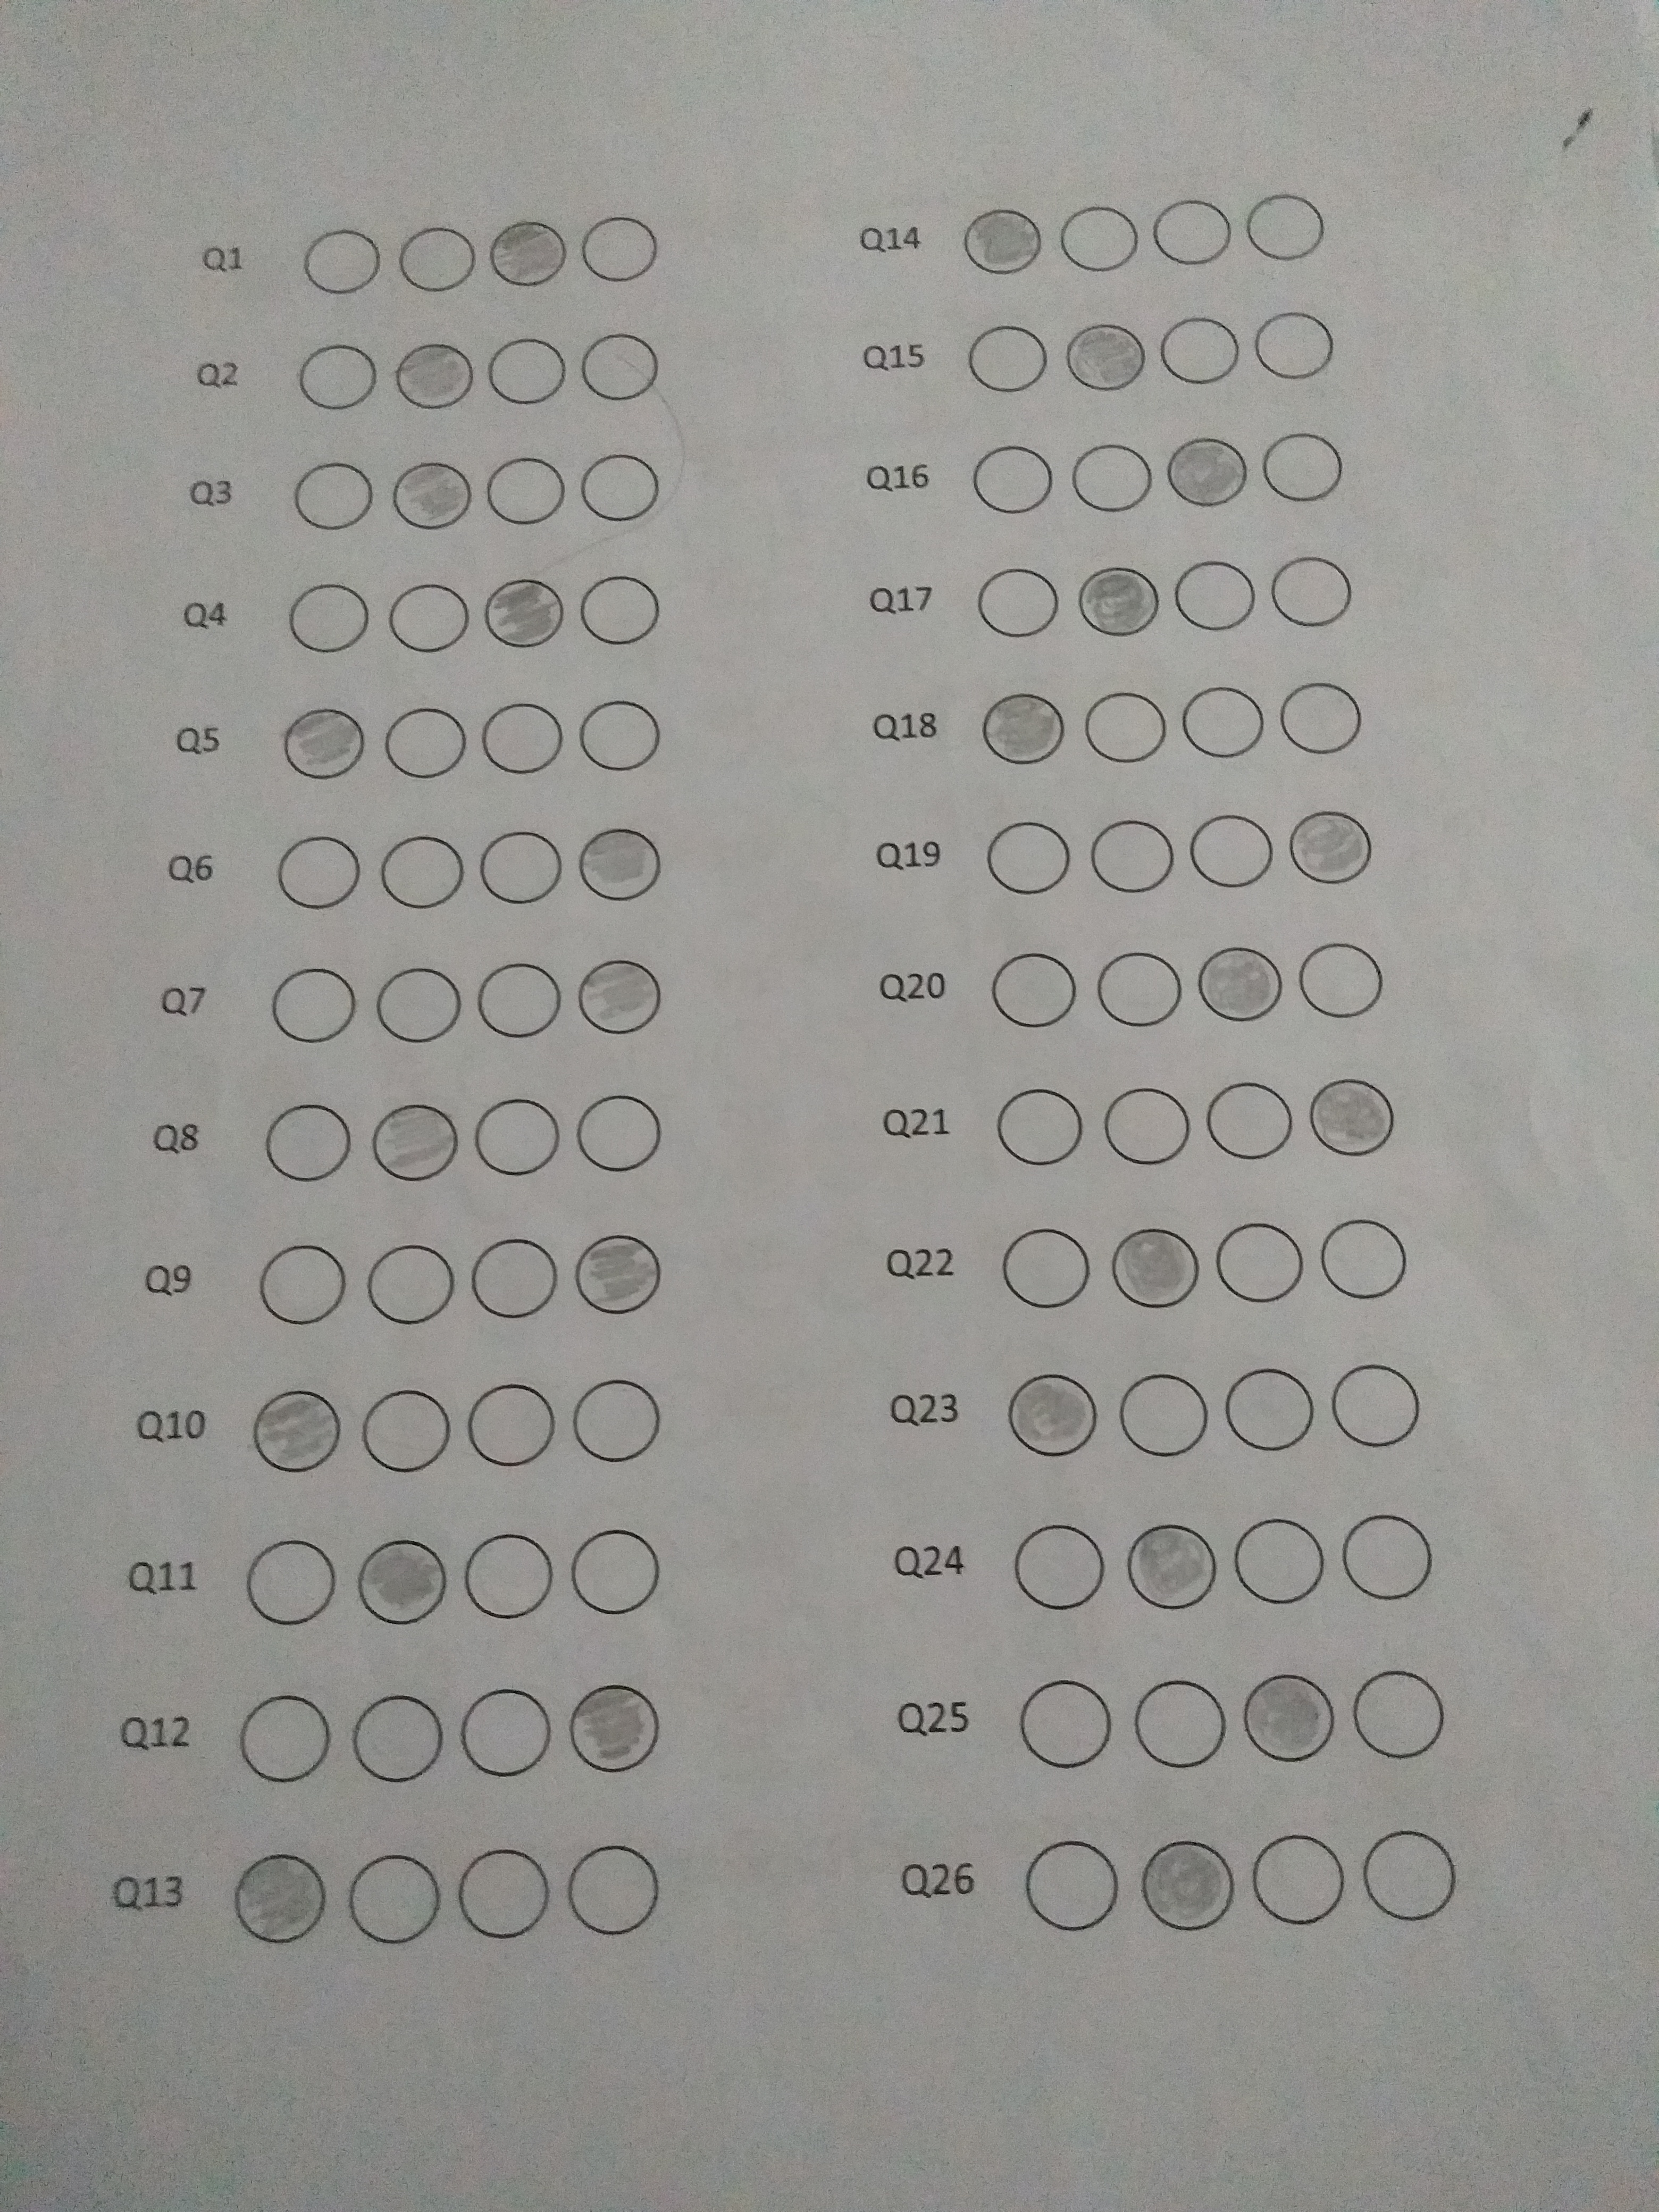not-c: (1333, 1503, 1446, 1622), (1345, 1665, 1455, 1782), (221, 1684, 335, 1794), (1359, 1824, 1467, 1939), (974, 1075, 1091, 1179), (1323, 1352, 1436, 1456), (338, 1850, 451, 1952), (1243, 1827, 1352, 1932), (1127, 1670, 1232, 1778), (1009, 1519, 1112, 1629), (563, 1843, 673, 1946), (565, 1522, 669, 1629), (349, 1686, 451, 1794), (563, 1372, 673, 1472), (1100, 1080, 1197, 1191), (983, 1221, 1094, 1318), (1317, 1207, 1413, 1320), (451, 1843, 556, 1946), (1227, 1510, 1328, 1616), (976, 944, 1084, 1042), (361, 1238, 460, 1343), (455, 1527, 561, 1625), (1014, 1676, 1115, 1777), (1021, 1832, 1124, 1932), (464, 1371, 561, 1475), (455, 1684, 559, 1782), (1204, 1071, 1300, 1177), (1208, 1214, 1307, 1315), (355, 1383, 457, 1482), (469, 1235, 565, 1336), (1295, 935, 1398, 1028), (1091, 942, 1187, 1040), (1222, 1362, 1319, 1458), (467, 1094, 568, 1186), (244, 1536, 345, 1629), (976, 812, 1080, 900), (1110, 1372, 1215, 1461), (256, 1242, 354, 1336), (572, 1089, 667, 1183), (267, 827, 366, 918), (284, 326, 380, 418), (261, 1097, 357, 1190), (286, 218, 394, 300), (373, 958, 469, 1049), (274, 577, 375, 660), (369, 834, 472, 916), (1087, 810, 1180, 900), (279, 455, 378, 538), (1244, 192, 1340, 277), (270, 965, 368, 1049), (1256, 427, 1356, 509), (577, 570, 669, 657), (575, 695, 664, 784), (472, 960, 565, 1045), (385, 577, 472, 665), (476, 698, 566, 784), (376, 702, 469, 786), (1251, 308, 1345, 388), (579, 329, 667, 413), (476, 827, 565, 911), (481, 333, 572, 415), (1178, 683, 1269, 765), (1279, 679, 1366, 763), (1072, 439, 1161, 521), (976, 564, 1066, 644), (1173, 557, 1263, 637), (568, 218, 666, 289), (1080, 690, 1169, 768), (1188, 812, 1272, 892), (394, 221, 481, 298), (971, 444, 1058, 521), (483, 453, 568, 529), (962, 324, 1051, 397), (1155, 315, 1244, 388), (1270, 556, 1354, 632), (579, 453, 664, 528), (1147, 197, 1236, 268), (1054, 202, 1136, 273)
taken-c: (565, 1679, 662, 1777), (230, 1848, 329, 1944), (1141, 1834, 1237, 1930), (1124, 1521, 1218, 1613), (1241, 1672, 1337, 1763), (352, 1538, 448, 1627), (1006, 1371, 1100, 1458), (1105, 1224, 1202, 1308), (573, 1230, 664, 1318), (253, 1386, 342, 1474), (371, 1099, 460, 1183), (1309, 1075, 1398, 1158), (1197, 941, 1284, 1024), (1286, 806, 1375, 888), (573, 958, 664, 1036), (978, 690, 1068, 768), (575, 824, 662, 902), (279, 705, 368, 782), (483, 571, 566, 651), (390, 456, 476, 533), (1077, 563, 1161, 639), (1164, 435, 1249, 510), (958, 206, 1046, 279), (1063, 319, 1147, 394), (394, 336, 477, 409), (488, 218, 568, 289)
